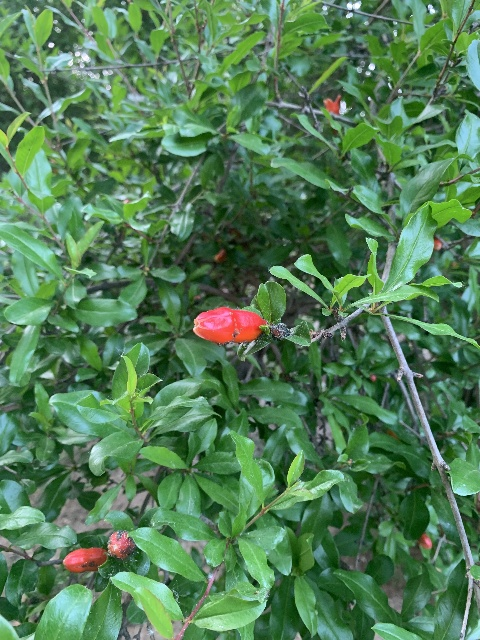bud: (192, 306, 266, 343), (62, 547, 107, 573), (108, 531, 133, 559), (418, 533, 432, 549)
flower: (323, 95, 342, 116)
